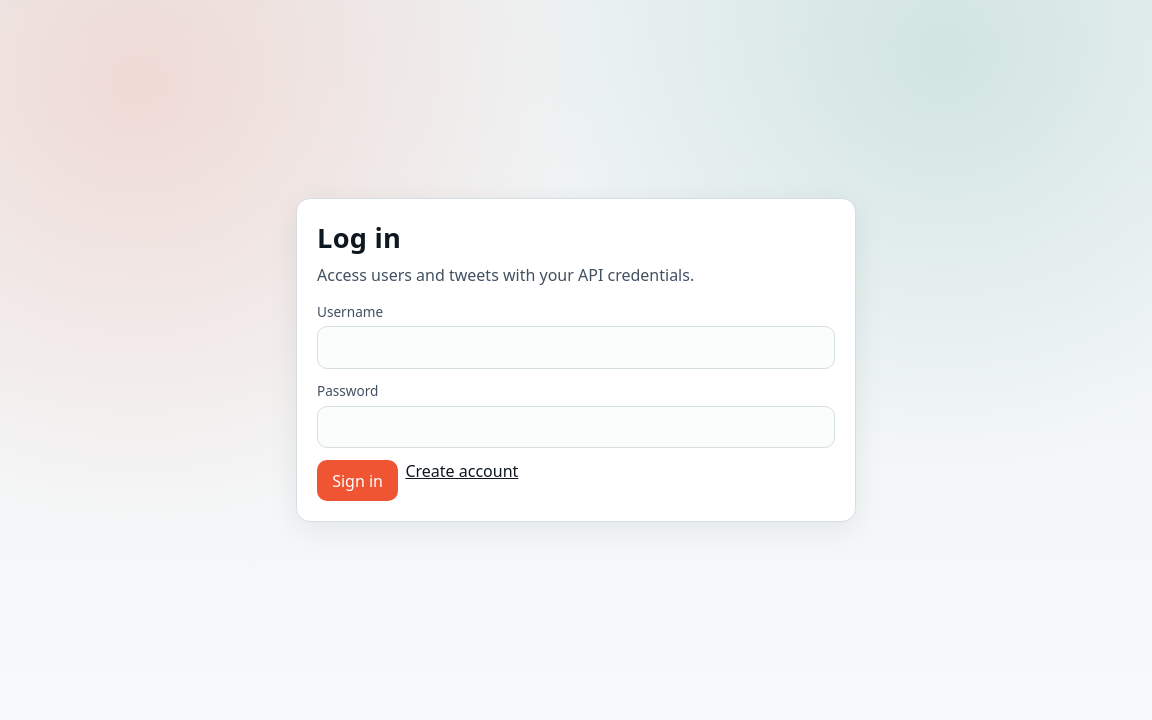
LoginPage › renders error for invalid credentials
Type "bad" into the field labelled "Username" at (576, 348), box [317, 326, 835, 369]
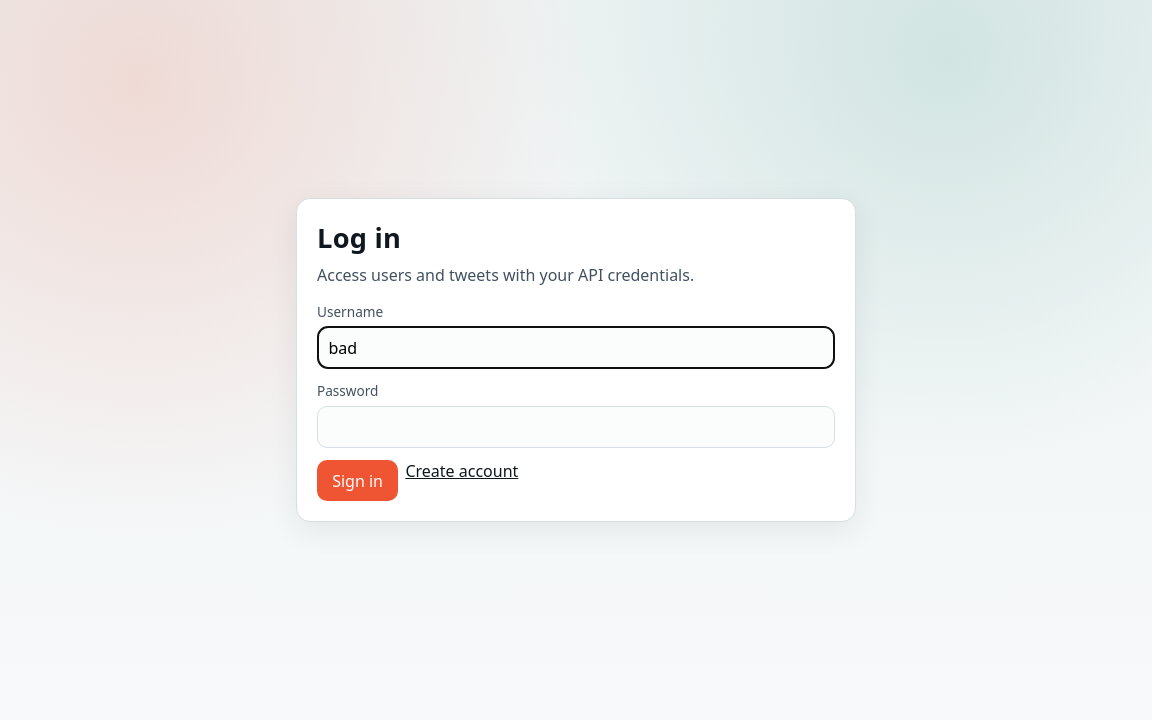
Type "credentials" into the password field labelled "Password" at (576, 427), box [317, 406, 835, 448]
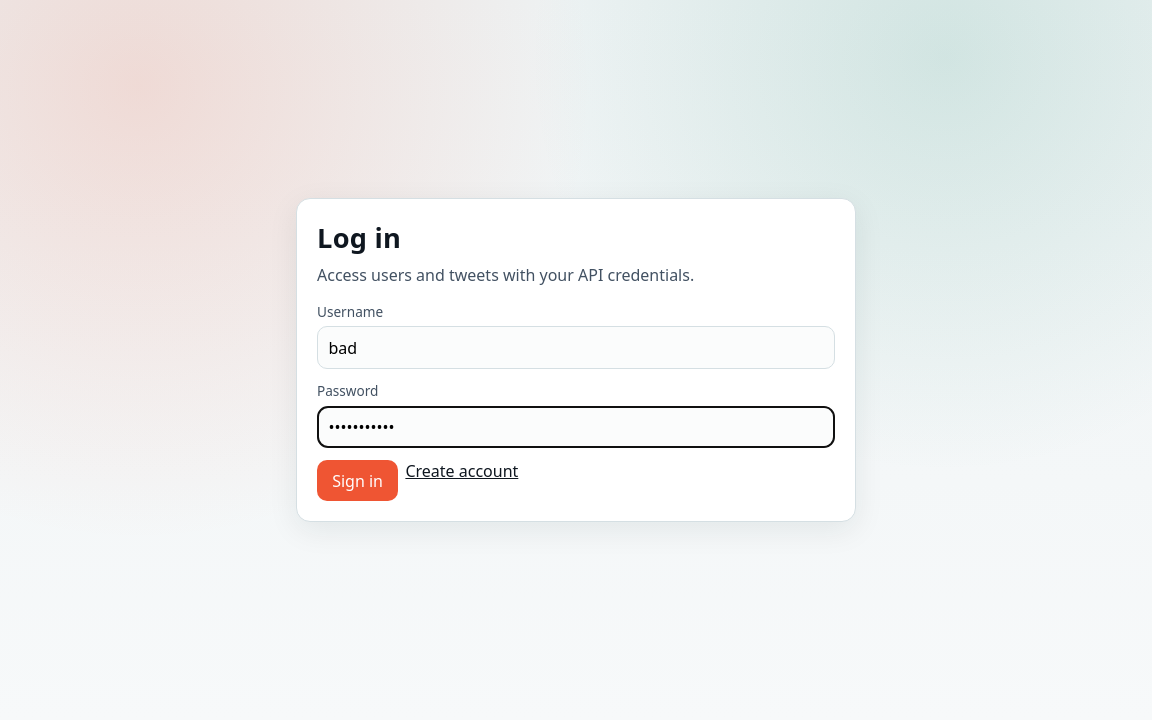
Click the button with test id "login-submit" at (358, 481), box [317, 460, 398, 501]
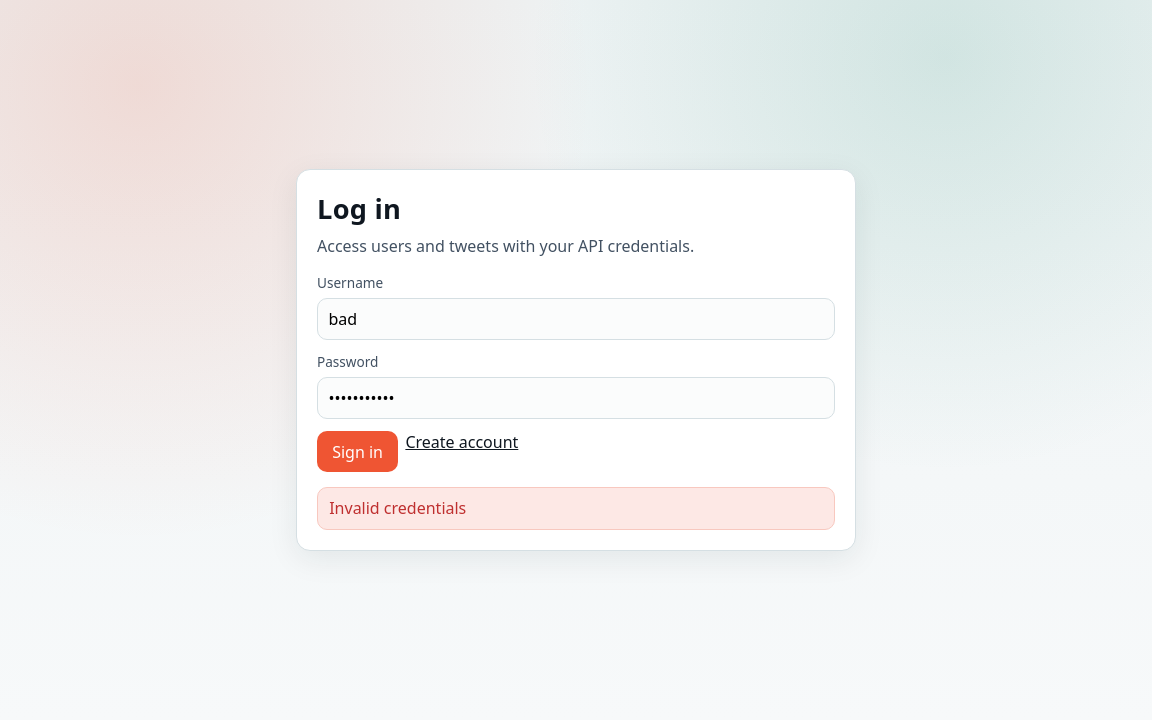
Now the text "Invalid credentials" is shown, box [317, 487, 835, 530]
